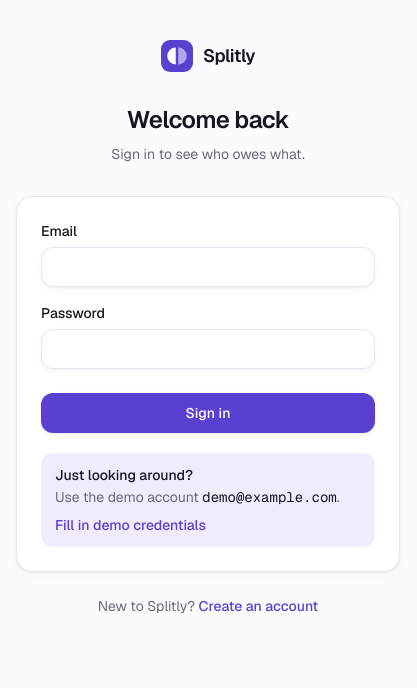
LoginPage › shows a friendly message when the credentials are wrong
Type "ana@example.com" into the field labelled "Email".
click(208, 267); type("ana@example.com")  # box left=41, top=247, right=375, bottom=287
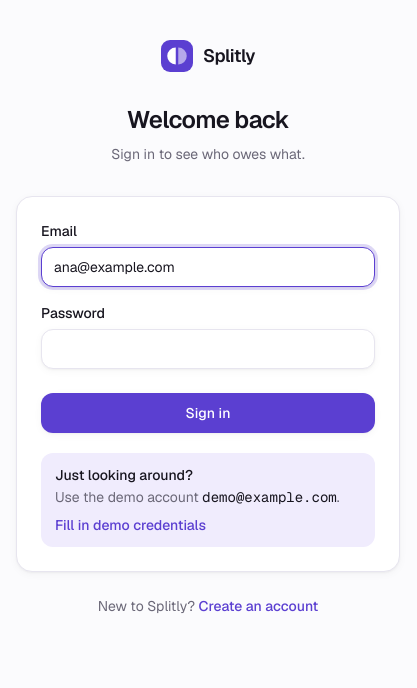
Type "wrong-password" into the password field labelled "Password".
click(208, 349); type("wrong-password")  # box left=41, top=329, right=375, bottom=369
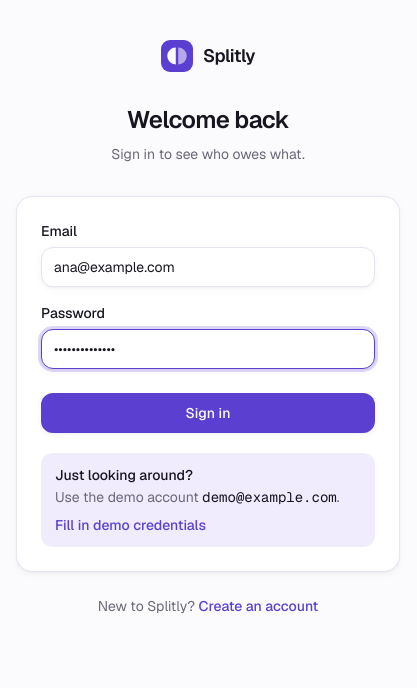
Click the button "Sign in".
click(208, 413)  # box left=41, top=393, right=375, bottom=433
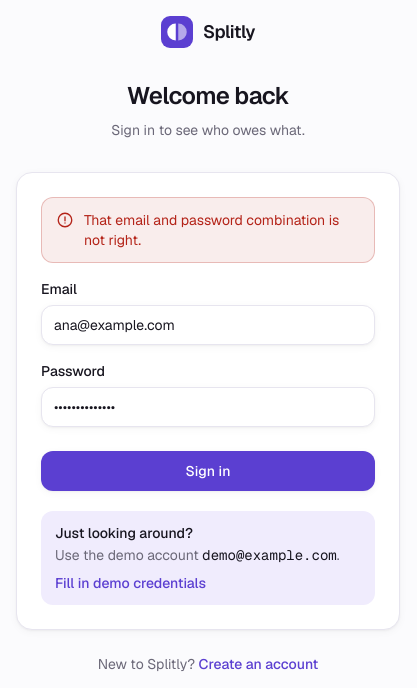
Expected: the message reads "That email and password combination is not right.", left=84, top=211, right=339, bottom=249
